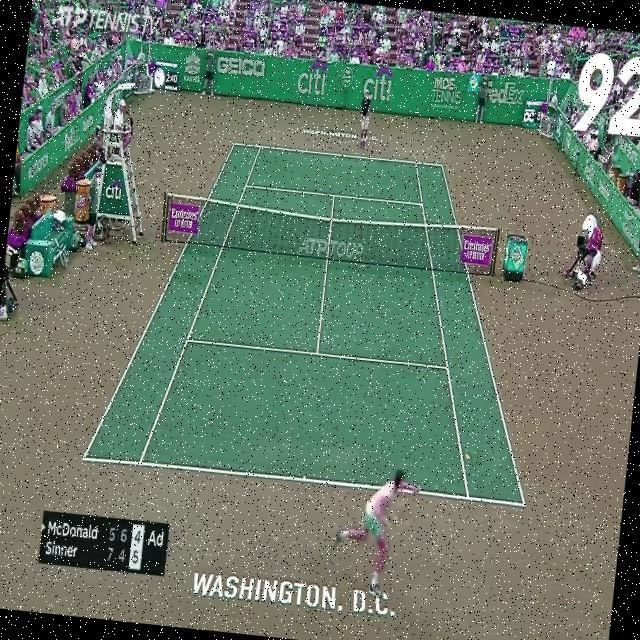court: (80, 128, 562, 509)
net: (158, 190, 501, 277)
player: (328, 462, 422, 602)
